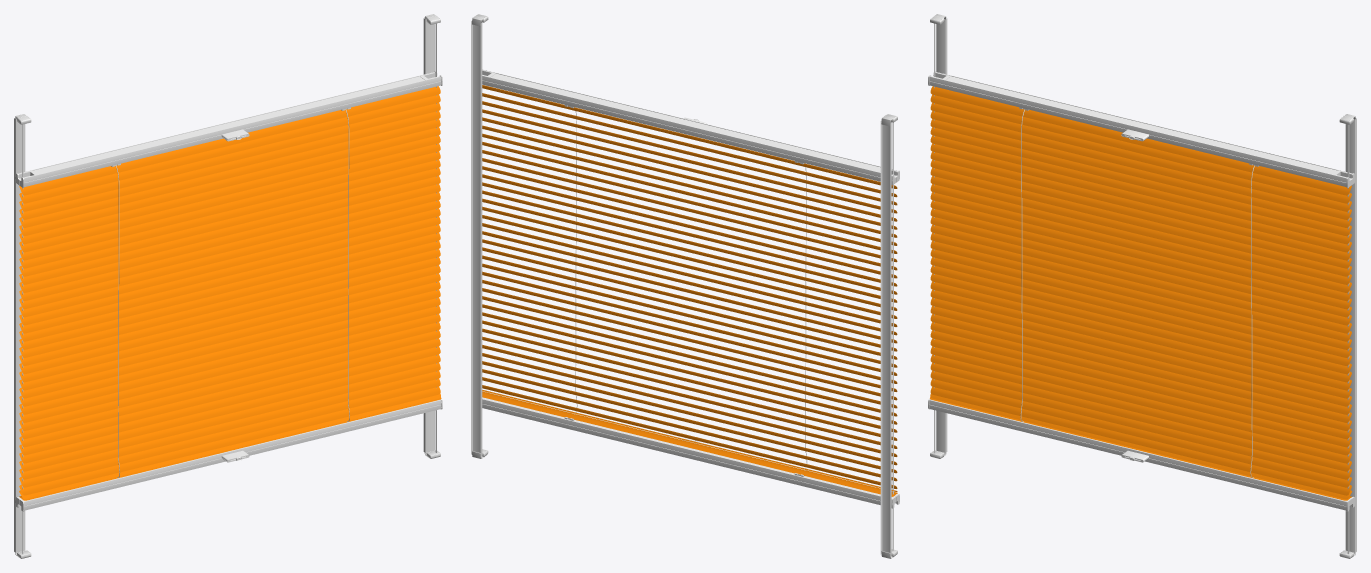
Rendered from 8780 Verspannte Jalousie Duoflex Slide KL zum Kleben ohne Bohren.glb.
3 renders of one model, left to right at view 1: azimuth 30°, elevation 25°; view 2: azimuth 150°, elevation 25°; view 3: azimuth 330°, elevation 25°, orthographic.
Parts seen in each view (by area): view 1: Top Balken, Top Balken.001, jalousie.065, jalousie.057, jalousie.055, jalousie.064, jalousie.060, jalousie.012, jalousie.010, jalousie.062, jalousie.061, jalousie.058 (+32 smaller); view 2: Top Balken, Cube.001, Cube.049, Top Balken.001, jalousie.053, jalousie.002, jalousie.021, jalousie.013, jalousie.062, jalousie.059, jalousie.057, jalousie.029 (+33 smaller); view 3: Top Balken, Top Balken.001, jalousie.065, jalousie.015, jalousie.052, jalousie.004, jalousie.016, jalousie.002, jalousie.003, jalousie.006, jalousie.022, jalousie.018 (+32 smaller).
Boxes of the visible parts, box(x1,y1,x2,y2) form: Top Balken: box(18, 72, 441, 186); Top Balken.001: box(18, 399, 441, 510); jalousie.065: box(19, 86, 440, 195); jalousie.057: box(19, 151, 440, 260); jalousie.055: box(19, 354, 440, 463); jalousie.064: box(19, 94, 440, 203); jalousie.060: box(19, 127, 440, 235); jalousie.012: box(19, 305, 440, 414); jalousie.010: box(19, 322, 440, 430); jalousie.062: box(19, 111, 440, 219); jalousie.061: box(19, 119, 440, 227); jalousie.058: box(19, 143, 440, 252); Top Balken: box(482, 69, 897, 181); Cube.001: box(880, 120, 891, 556); Cube.049: box(471, 21, 482, 456); Top Balken.001: box(482, 397, 897, 504); jalousie.053: box(482, 391, 897, 496); jalousie.002: box(482, 247, 897, 351); jalousie.021: box(482, 198, 897, 302); jalousie.013: box(482, 296, 897, 400); jalousie.062: box(482, 109, 897, 213); jalousie.059: box(482, 133, 897, 237); jalousie.057: box(482, 150, 897, 253); jalousie.029: box(482, 263, 897, 367); Top Balken: box(929, 72, 1352, 186); Top Balken.001: box(929, 399, 1352, 510); jalousie.065: box(930, 86, 1351, 195); jalousie.015: box(930, 281, 1351, 390); jalousie.052: box(930, 346, 1351, 455); jalousie.004: box(930, 232, 1351, 341); jalousie.016: box(930, 273, 1351, 382); jalousie.002: box(930, 249, 1351, 357); jalousie.003: box(930, 241, 1351, 349); jalousie.006: box(930, 216, 1351, 325); jalousie.022: box(930, 208, 1351, 317); jalousie.018: box(930, 176, 1351, 284).
Size of the model in its own units: 1 by 0.9996 by 0.0648.
6 materials, 1 textured.
